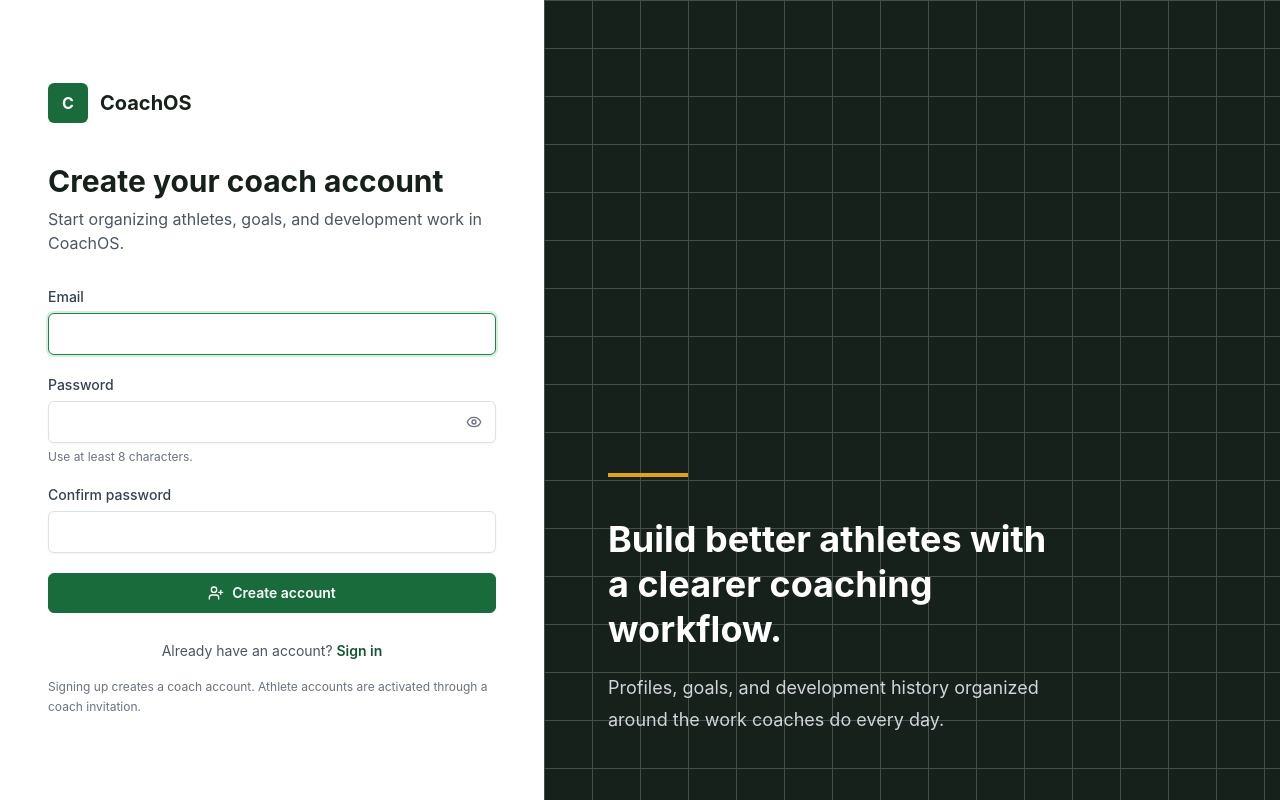
Scenario: authentication › validates matching signup passwords
Type "coach@example.com" into the field labelled "Email" at (272, 334), box [48,313,496,355]
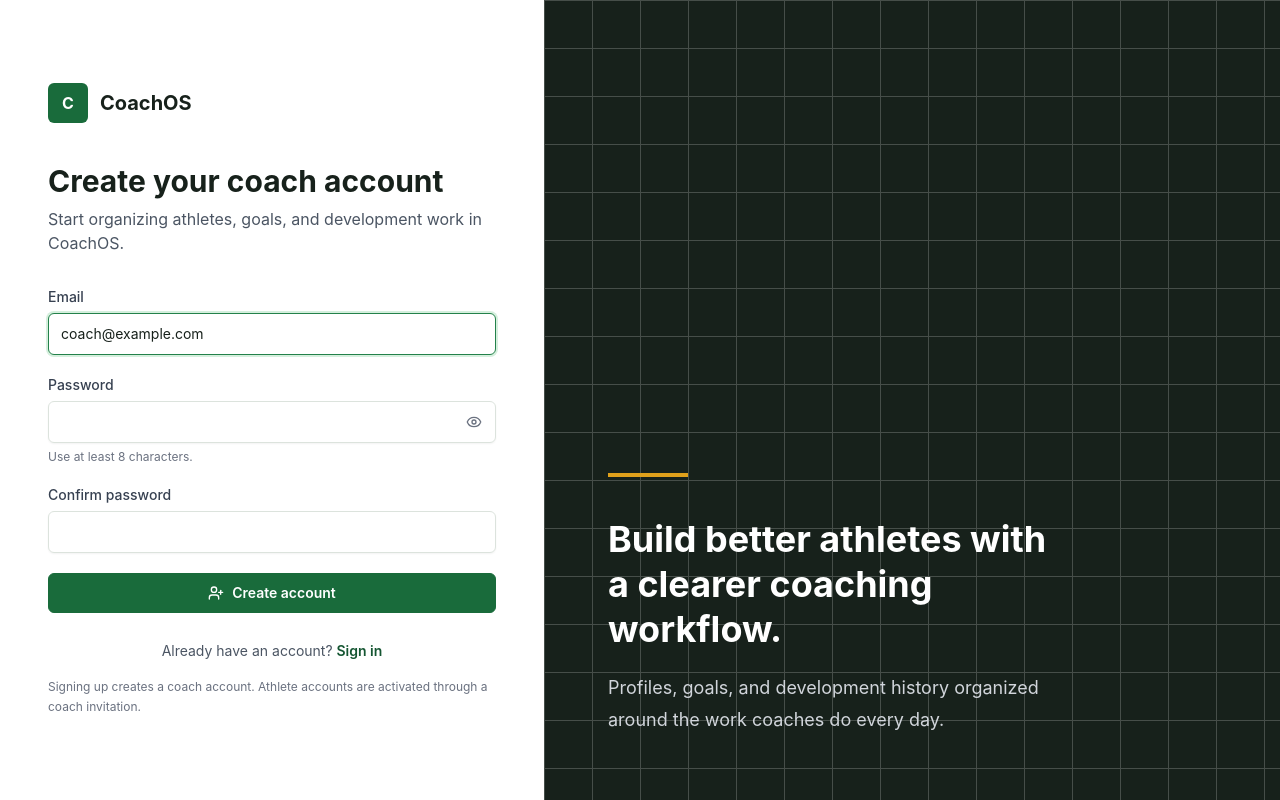
Type "secure-password" into the password field labelled "Password" at (272, 422), box [48,401,496,443]
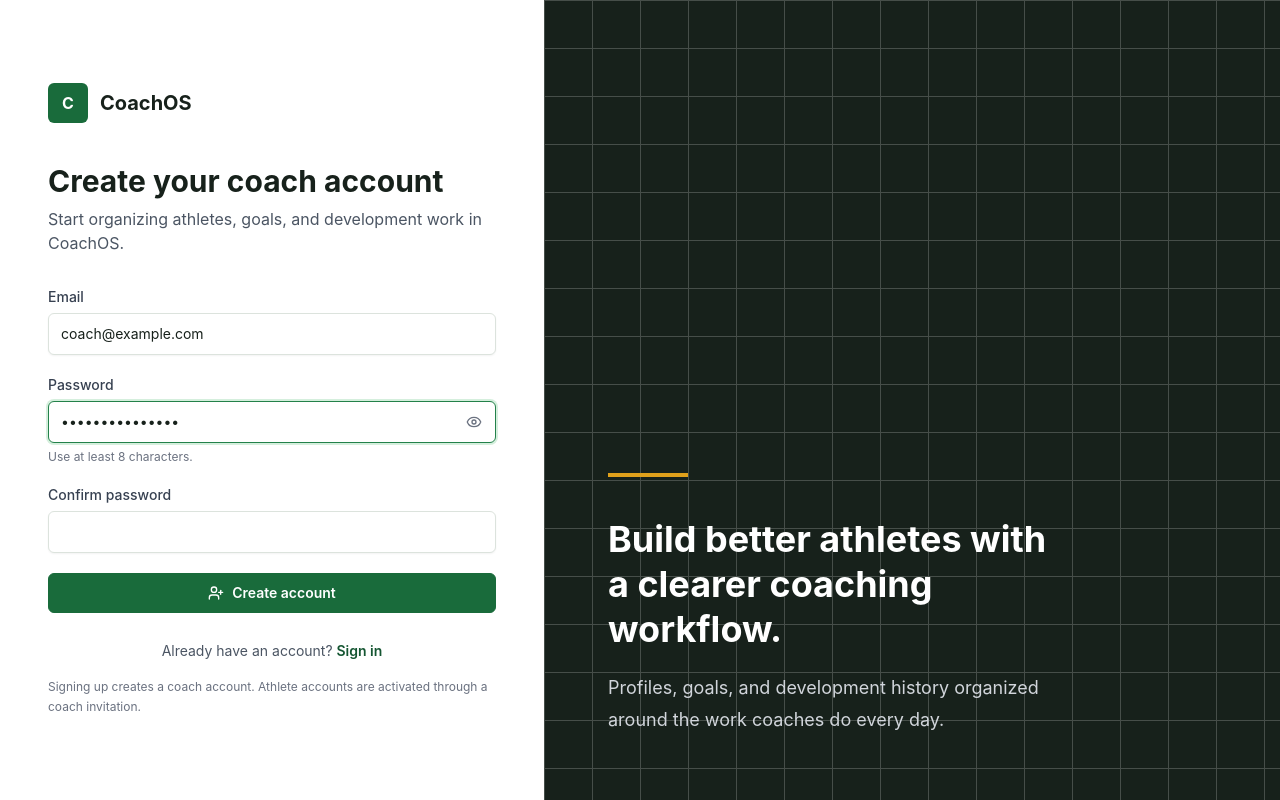
Type "different" into the password field labelled "Confirm password" at (272, 532), box [48,511,496,553]
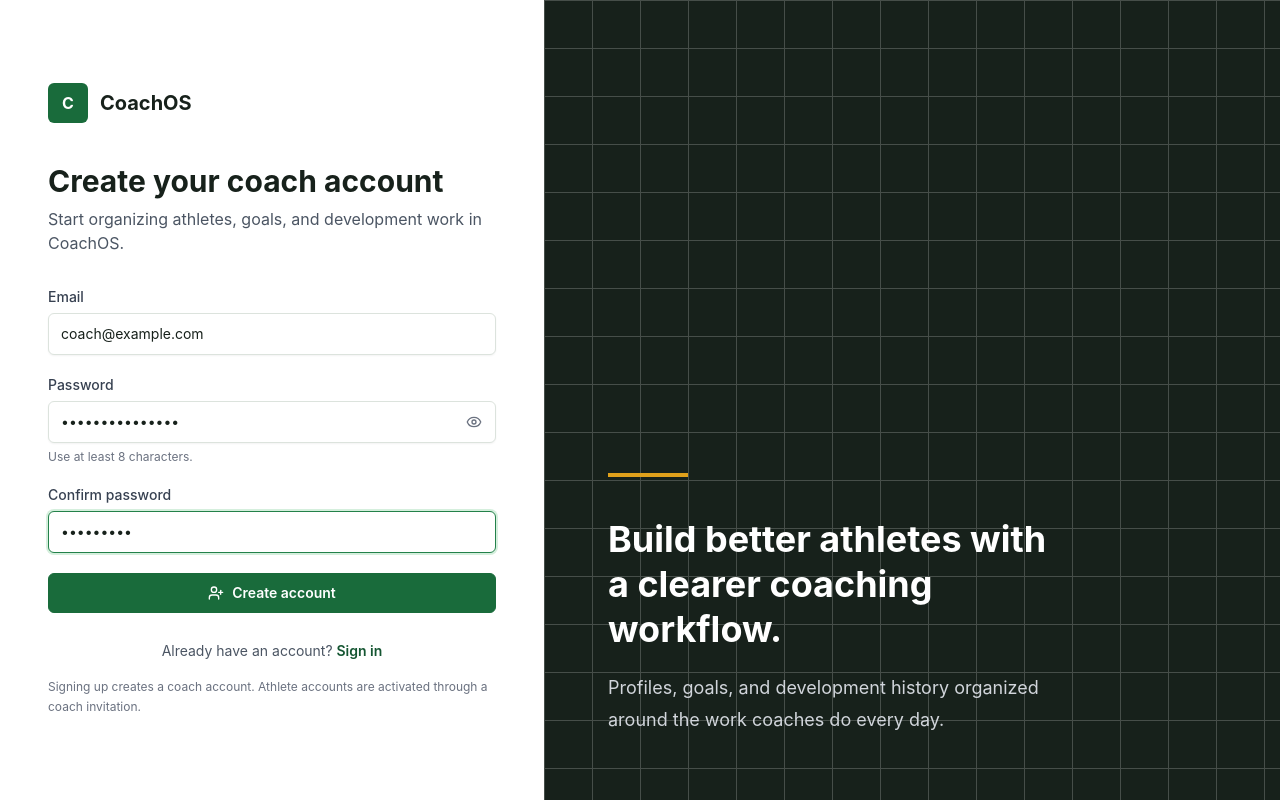
Click the button "Create account" at (272, 593), box [48,573,496,613]
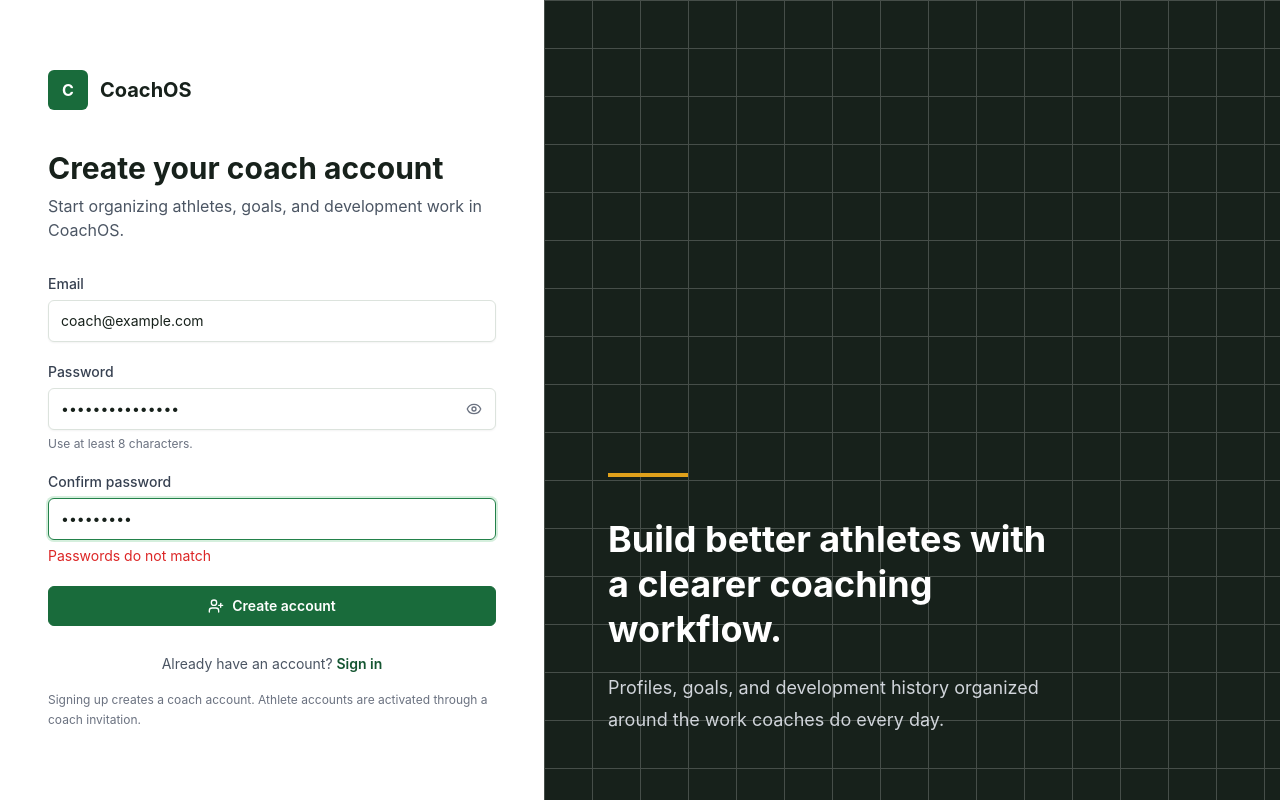
Expected: the text "Passwords do not match" is shown, [48,547,211,564]
